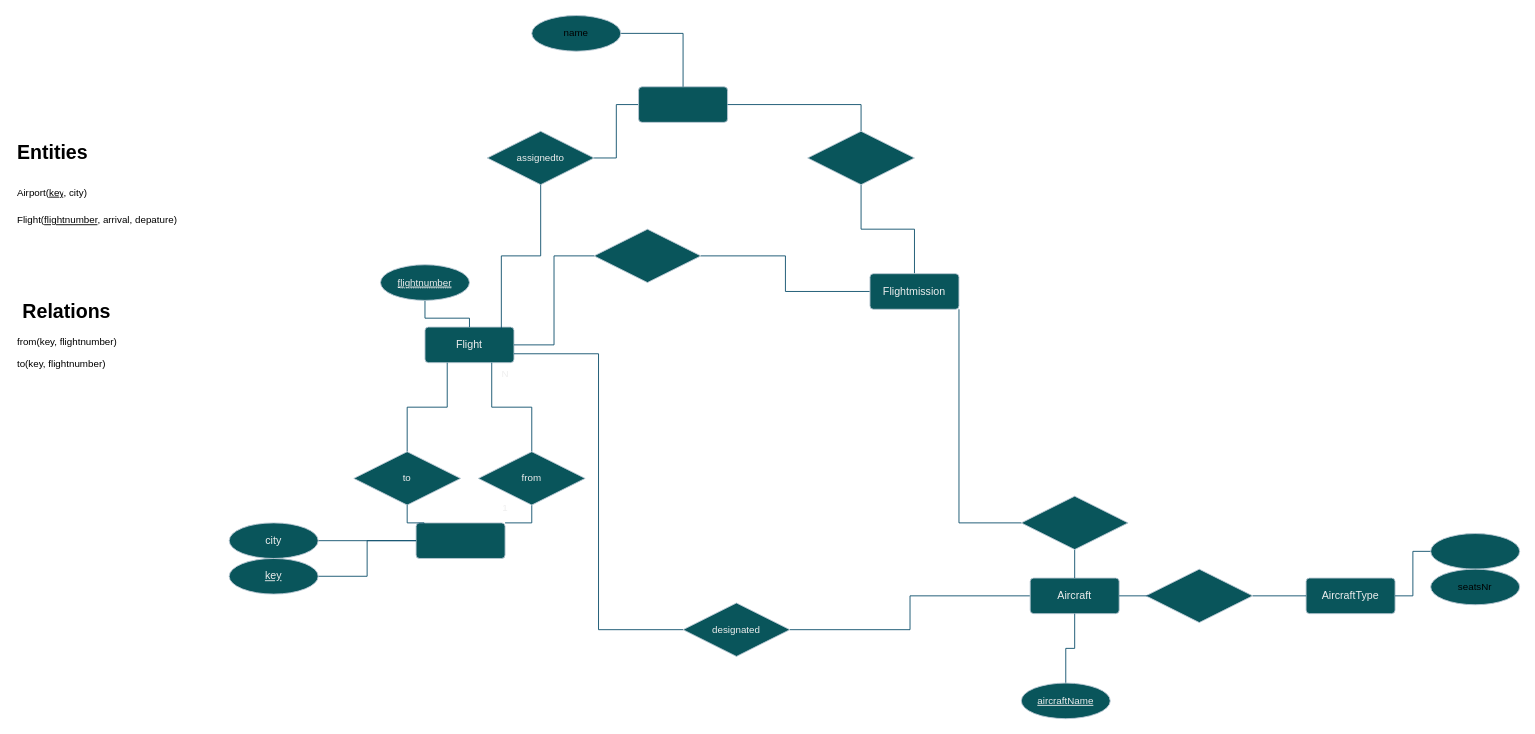
Image size: 1535x734. Some labels were removed from this diagram. Here are the shapes that lost their labels. From the top down, the centre of each, then its label:
point (683, 104): Pilot
point (860, 157): flownby
point (647, 255): executed
point (460, 540): Airport
point (1074, 522): used
point (1475, 551): typename
point (1199, 595): belongs
